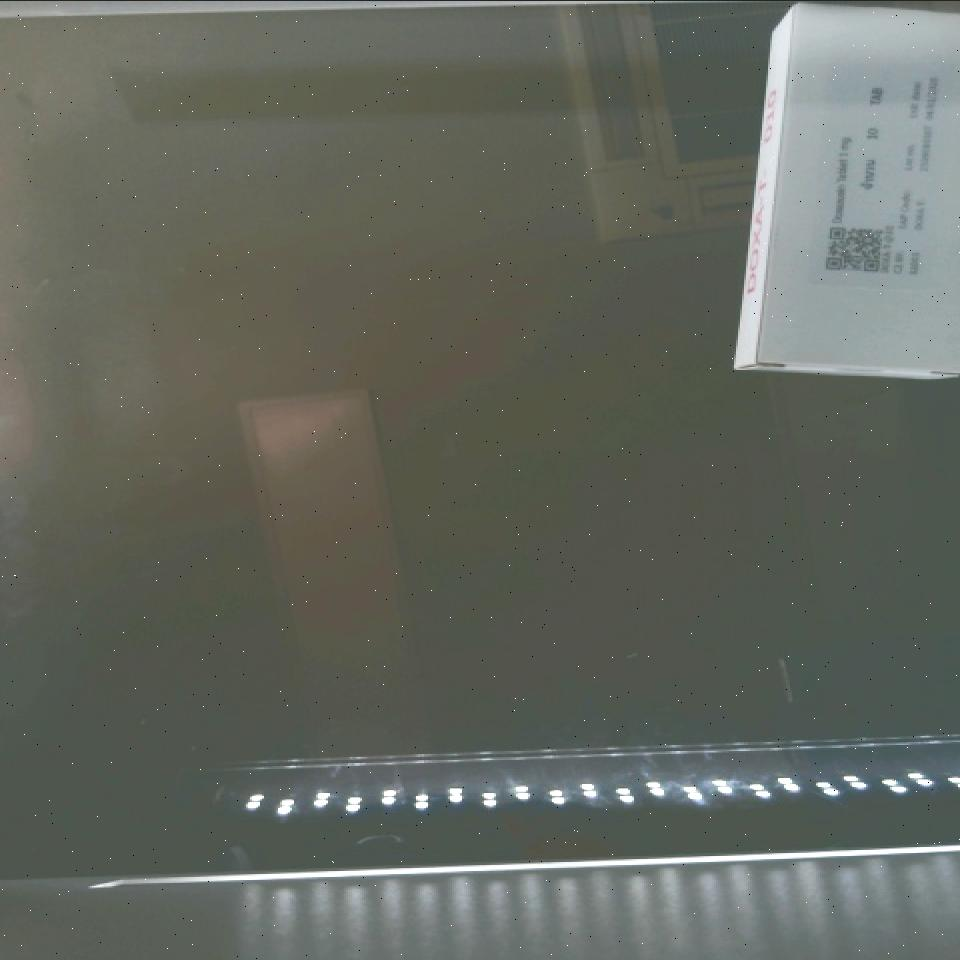medicine_box: (755, 3, 960, 376)
qr_code: (807, 210, 905, 286)
